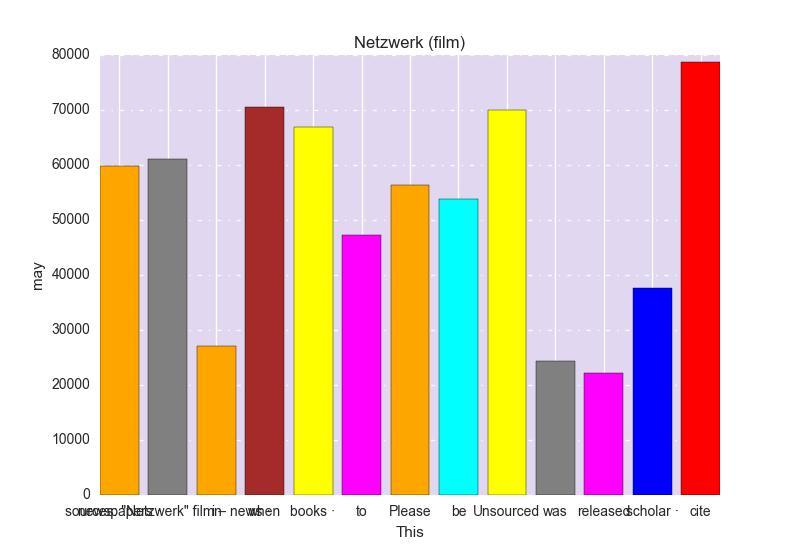axis: (30, 49, 90, 502)
rectangle: (681, 62, 720, 495), (245, 107, 284, 495), (488, 110, 526, 495), (294, 127, 332, 495), (148, 159, 188, 495), (100, 166, 139, 495), (390, 185, 430, 495), (439, 199, 478, 495), (342, 235, 381, 495), (632, 288, 672, 495), (197, 346, 236, 495), (536, 361, 575, 495), (584, 373, 624, 495)
